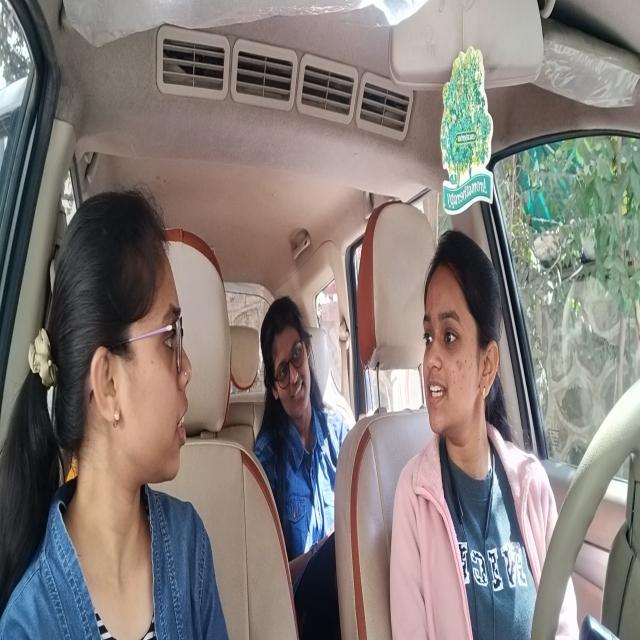LeftRight: (413, 217, 518, 473)
person: (51, 184, 200, 535), (416, 229, 508, 452), (257, 290, 325, 434)
talking: (423, 370, 453, 418), (174, 393, 192, 456)
